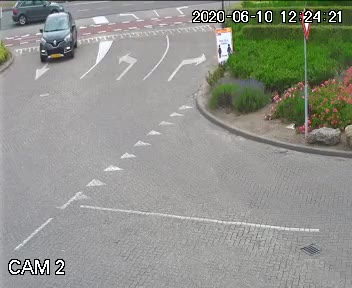car: (38, 8, 79, 67), (7, 0, 63, 29)
